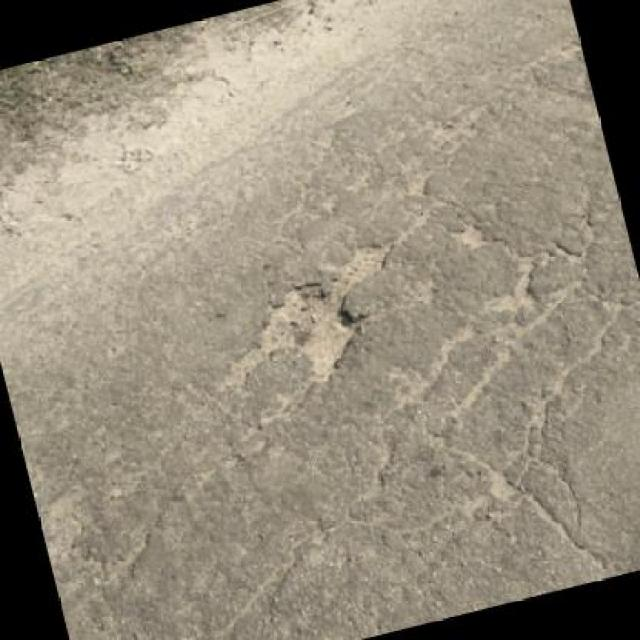pothole1: (205, 234, 422, 403)
